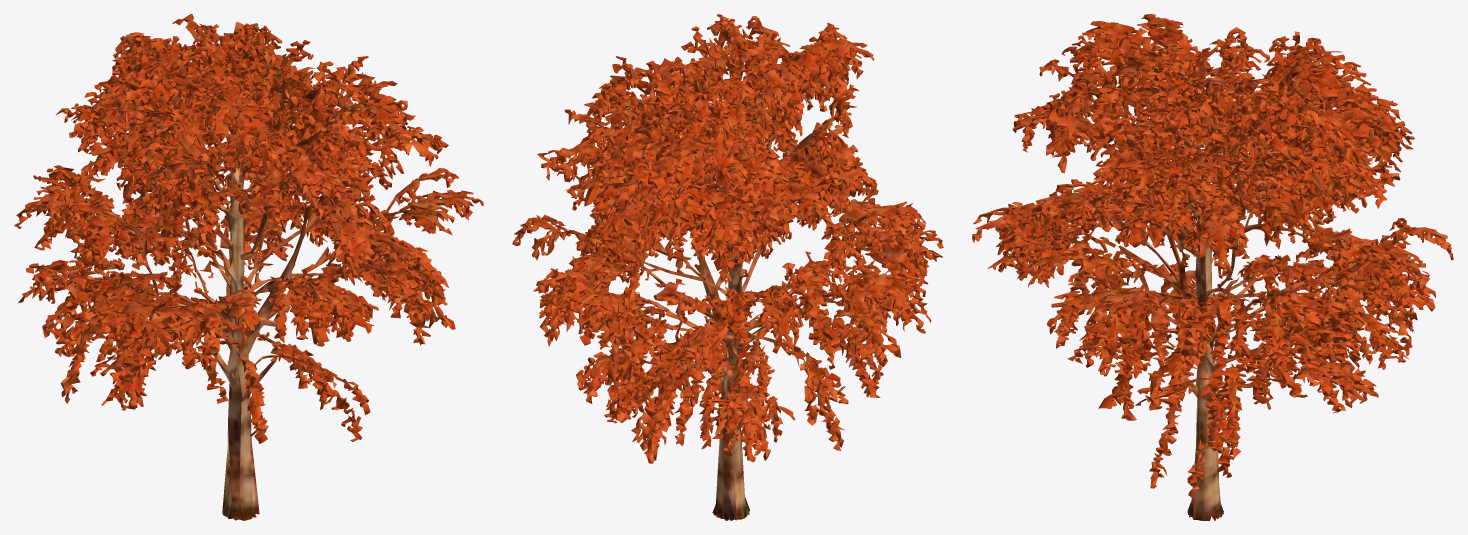
File: r6-birch-autumn-r6.glb
3 views of the same model, side by side, from view 1: azimuth 30°, elevation 25°; view 2: azimuth 150°, elevation 25°; view 3: azimuth 270°, elevation 25° (orthographic).
Parts seen in each view (by area): view 1: geometry_0; view 2: geometry_0; view 3: geometry_0.
Boxes of the visible parts, box(x1,y1,x2,y2) form: geometry_0: box(14, 14, 483, 520); geometry_0: box(512, 14, 943, 520); geometry_0: box(972, 14, 1453, 520).
Size of the model in its own units: 10.42 by 12 by 11.16.
1 material, 1 textured.
